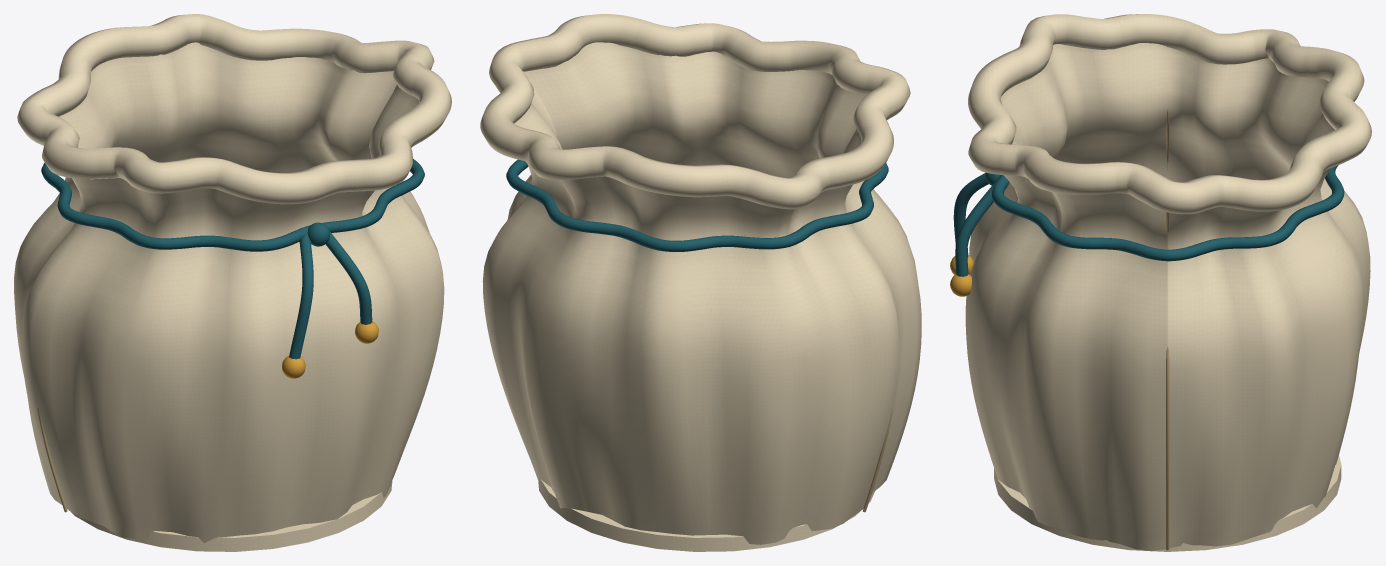
File: mail-sack.glb
The picture shows the model from 3 angles, left to right: view 1: azimuth 30°, elevation 25°; view 2: azimuth 150°, elevation 25°; view 3: azimuth 270°, elevation 25°; orthographic projection.
Parts seen in each view (by area): view 1: Mail_Sack_Fabric, Mail_Sack_Rolled_Rim, Mail_Sack_Drawcord, Mail_Sack_Inner_Base, Mail_Sack_Cord_Left, Mail_Sack_Cord_Right; view 2: Mail_Sack_Fabric, Mail_Sack_Rolled_Rim, Mail_Sack_Drawcord, Mail_Sack_Inner_Base; view 3: Mail_Sack_Fabric, Mail_Sack_Rolled_Rim, Mail_Sack_Drawcord, Mail_Sack_Inner_Base, Mail_Sack_Cord_Right, Mail_Sack_Side_Seam_0, Mail_Sack_Cord_Left.
Boxes of the visible parts, x1=… form: Mail_Sack_Fabric: x1=14, y1=42, x2=444, y2=543; Mail_Sack_Rolled_Rim: x1=17, y1=14, x2=451, y2=204; Mail_Sack_Drawcord: x1=41, y1=159, x2=424, y2=251; Mail_Sack_Inner_Base: x1=71, y1=481, x2=392, y2=551; Mail_Sack_Cord_Left: x1=289, y1=227, x2=313, y2=359; Mail_Sack_Cord_Right: x1=325, y1=232, x2=372, y2=324; Mail_Sack_Fabric: x1=482, y1=42, x2=921, y2=544; Mail_Sack_Rolled_Rim: x1=480, y1=14, x2=910, y2=209; Mail_Sack_Drawcord: x1=506, y1=159, x2=888, y2=251; Mail_Sack_Inner_Base: x1=538, y1=478, x2=874, y2=551; Mail_Sack_Fabric: x1=965, y1=43, x2=1370, y2=551; Mail_Sack_Rolled_Rim: x1=968, y1=14, x2=1371, y2=214; Mail_Sack_Drawcord: x1=991, y1=165, x2=1344, y2=261; Mail_Sack_Inner_Base: x1=994, y1=455, x2=1341, y2=551; Mail_Sack_Cord_Right: x1=955, y1=181, x2=996, y2=276; Mail_Sack_Side_Seam_0: x1=1166, y1=212, x2=1169, y2=550; Mail_Sack_Cord_Left: x1=953, y1=173, x2=988, y2=257.
Bounding box in the file's own units: 0.2691 × 0.251 × 0.2404.
Materials: 4 (1 with a texture image).
